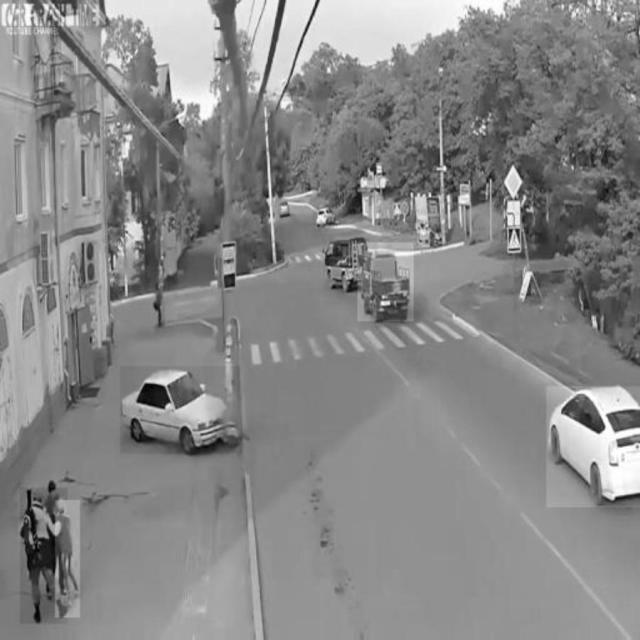accident: (120, 367, 242, 455)
person: (21, 488, 68, 624), (55, 500, 81, 618)
vehicle: (547, 386, 640, 507), (358, 243, 414, 321), (323, 232, 364, 290), (313, 206, 338, 232), (277, 193, 293, 219)
